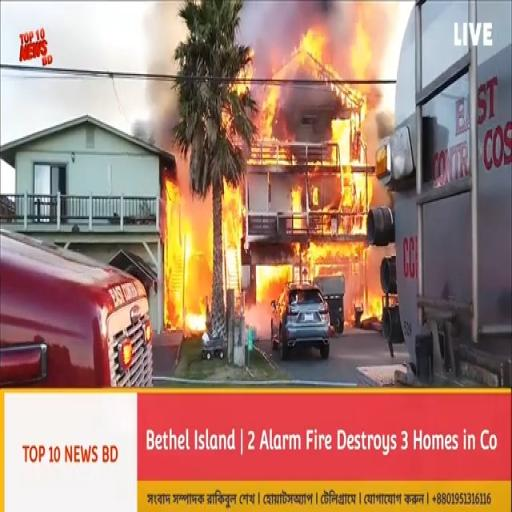fire: (332, 101, 370, 222)
